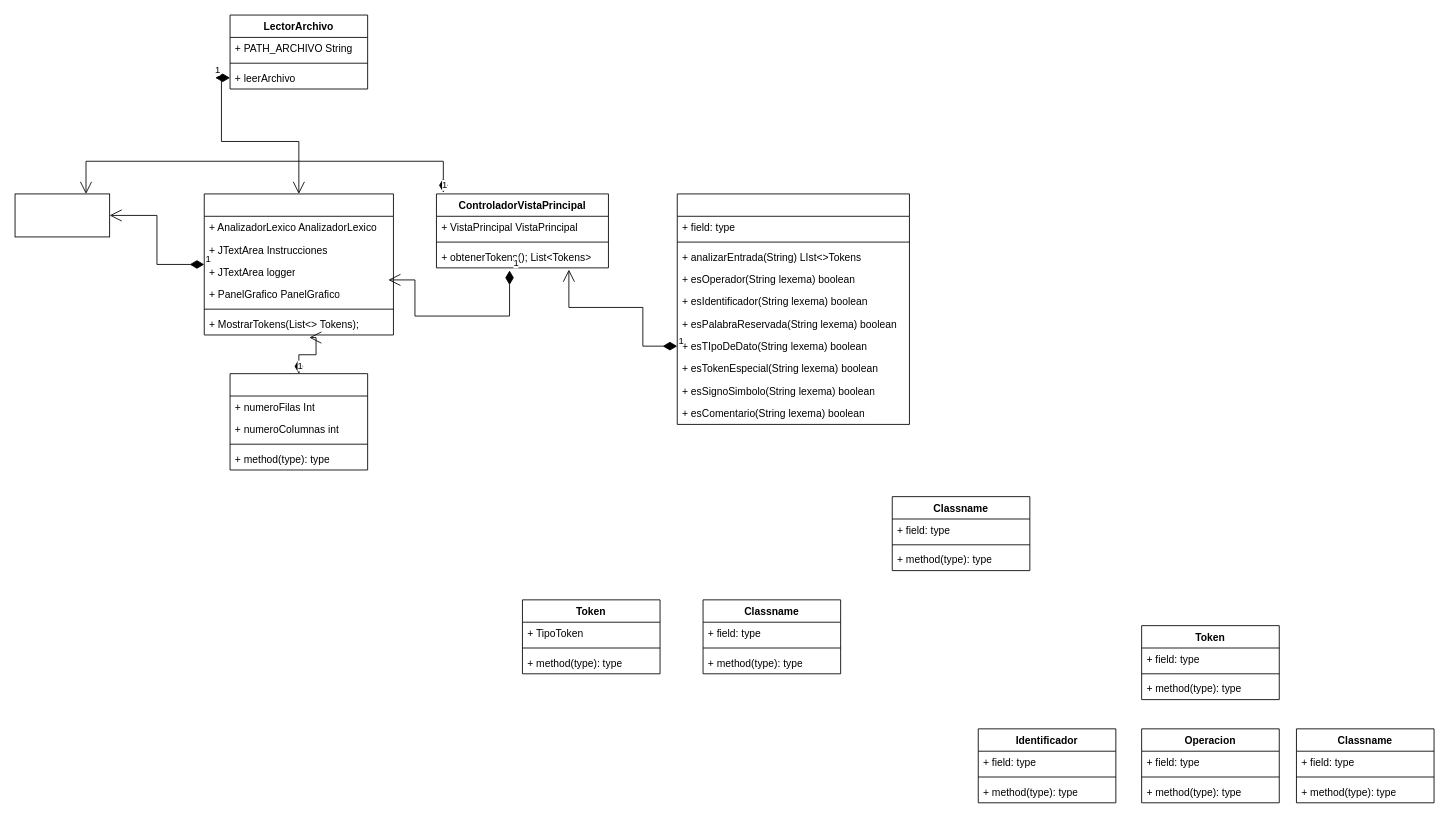
Some shapes in this 1449 by 820 pixel diagram are drawn without their labels. Each missing label, with the box of its shape:
AnalizadorLexico: (676, 193, 909, 424)
MAIN: (14, 193, 110, 237)
PanelGrafico: (229, 373, 368, 470)
VistaPrincipal: (203, 193, 393, 335)
